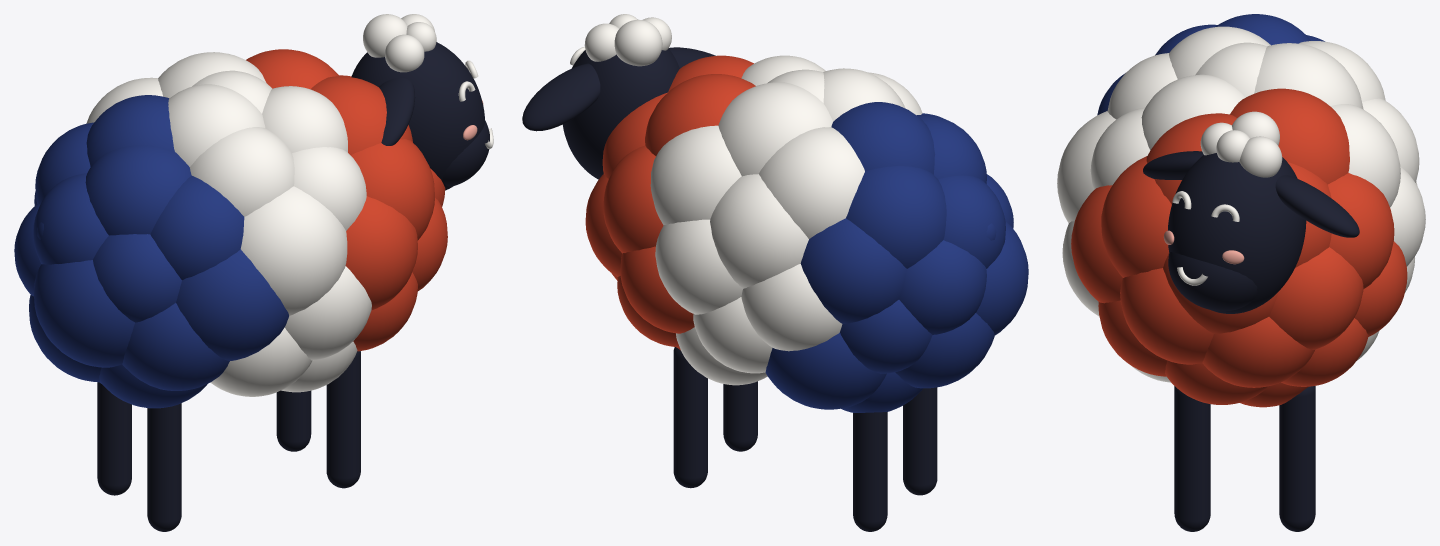
The model's file is mouton.glb.
The picture shows the model from 3 angles, left to right: view 1: azimuth 30°, elevation 25°; view 2: azimuth 150°, elevation 25°; view 3: azimuth 270°, elevation 25°; orthographic projection. The views are drawn at different scales.
Visible parts, largest first — view 1: flocon_19, flocon_27, crane, flocon_30, flocon_9, flocon_14, flocon_6, flocon_35, flocon_24, flocon_22, flocon_1, flocon_16 (+27 smaller); view 2: flocon_7, flocon_20, flocon_15, flocon_12, flocon_2, flocon_10, crane, flocon_41, flocon_25, flocon_23, flocon_28, flocon_4 (+25 smaller); view 3: crane, flocon_26, flocon_16, flocon_5, flocon_29, flocon_34, patte_1, patte_0, flocon_18, flocon_2, flocon_3, flocon_10 (+27 smaller).
Part boxes in pixels (x1,y1,x2,y2): flocon_19: (240, 186, 347, 315); flocon_27: (176, 249, 288, 360); crane: (351, 42, 484, 190); flocon_30: (33, 260, 134, 367); flocon_9: (85, 145, 191, 235); flocon_14: (150, 175, 244, 279); flocon_6: (190, 127, 294, 216); flocon_35: (122, 303, 229, 390); flocon_24: (345, 196, 417, 309); flocon_22: (93, 234, 181, 322); flocon_1: (168, 84, 265, 166); flocon_16: (351, 139, 434, 240); flocon_7: (759, 127, 864, 238); flocon_20: (800, 218, 906, 323); flocon_15: (710, 174, 808, 288); flocon_12: (846, 166, 946, 268); flocon_2: (718, 82, 833, 176); flocon_10: (650, 125, 741, 225); crane: (562, 49, 679, 179); flocon_41: (765, 332, 886, 409); flocon_25: (899, 240, 986, 334); flocon_23: (655, 219, 742, 314); flocon_28: (741, 263, 842, 351); flocon_4: (831, 102, 935, 174); crane: (1168, 153, 1306, 313); flocon_26: (1269, 247, 1363, 349); flocon_16: (1101, 156, 1171, 277); flocon_5: (1230, 88, 1349, 184); flocon_29: (1120, 268, 1213, 364); flocon_34: (1202, 317, 1314, 387); patte_1: (1279, 386, 1315, 531); patte_0: (1174, 386, 1210, 531); flocon_18: (1328, 173, 1394, 288); flocon_2: (1254, 43, 1363, 109); flocon_3: (1141, 74, 1245, 149); flocon_10: (1330, 104, 1400, 207).
Size of the model in its own units: 1.34 by 1.24 by 0.9142.
